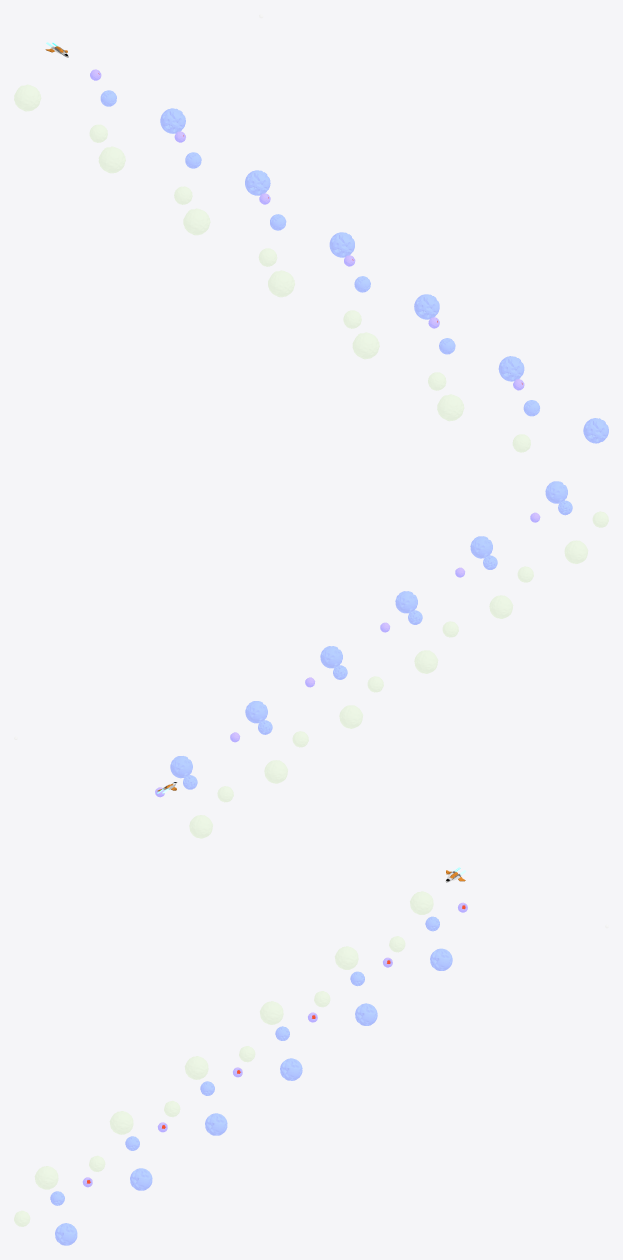
Rendered from shooter2.glb.
The picture shows the model from 3 angles, top to bottom: view 1: azimuth 30°, elevation 25°; view 2: azimuth 150°, elevation 25°; view 3: azimuth 330°, elevation 25°; orthographic projection. The views are drawn at different scales.
Parts seen in each view (by area): view 1: Roundcube.001 (×3); view 2: no part large enough to name; view 3: no part large enough to name.
Boxes of the visible parts, x1,y1,x2,y2 form: Roundcube.001 (×3): (98, 146, 379, 359).
Size of the model in its own units: 48.03 by 10.35 by 178.
